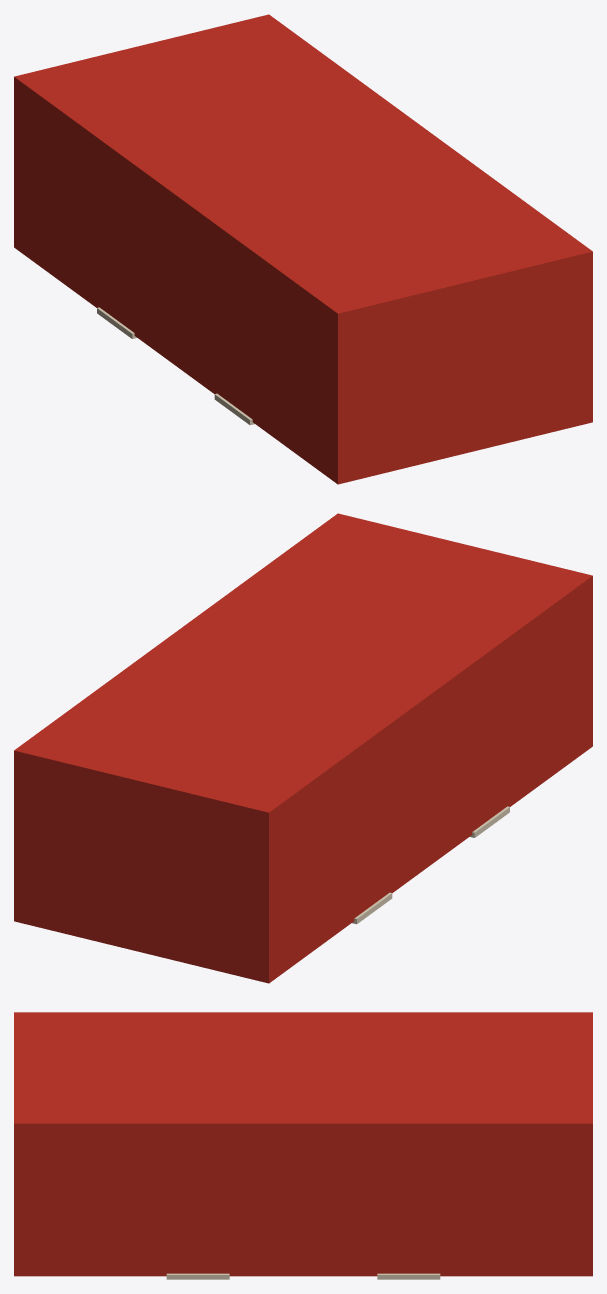
The model's file is brick.glb.
The picture shows the model from 3 angles, top to bottom: view 1: azimuth 30°, elevation 25°; view 2: azimuth 150°, elevation 25°; view 3: azimuth 270°, elevation 25°; orthographic projection. The views are drawn at different scales.
Parts seen in each view (by area): view 1: brick_mesh; view 2: brick_mesh; view 3: brick_mesh.
Boxes of the visible parts, x1,y1,x2,y2 form: brick_mesh: (14,14,592,484); brick_mesh: (14,513,592,983); brick_mesh: (14,1012,592,1279).
Bounding box in the file's own units: 0.102 × 0.065 × 0.22.
Materials: 1 (1 with a texture image).
